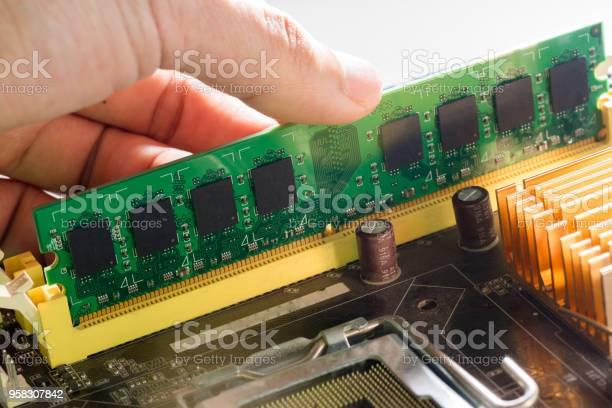ram: (31, 21, 608, 330)
